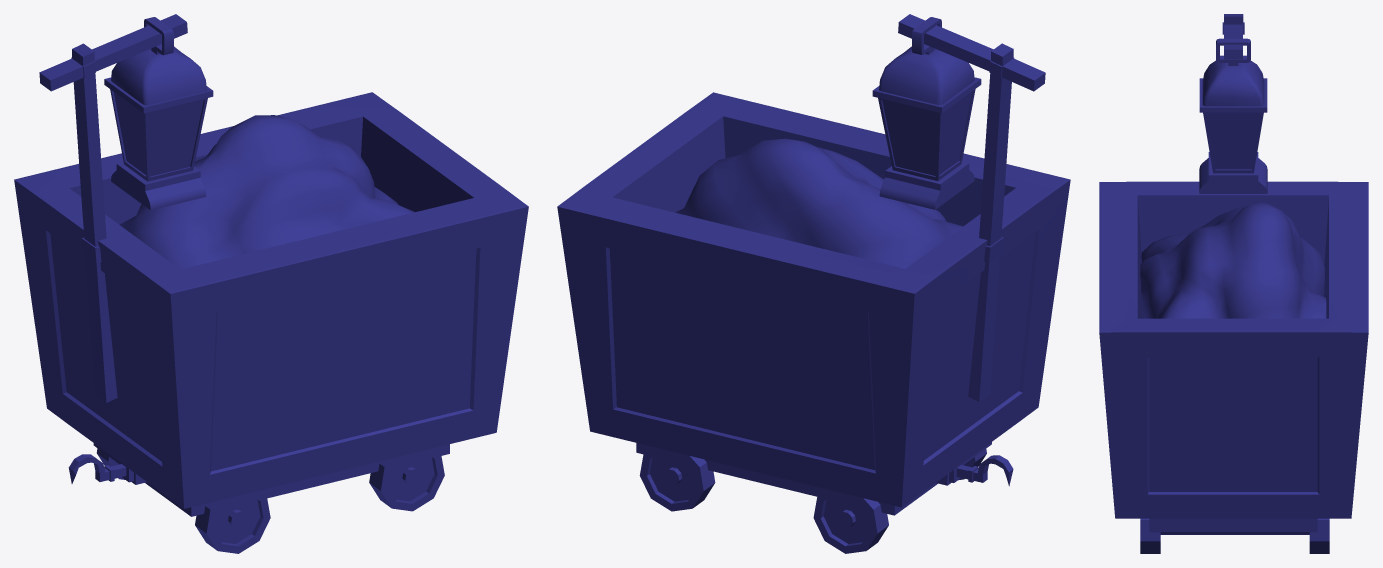
Rendered from MineCart.fbx.
3 renders of one model, left to right at view 1: azimuth 30°, elevation 25°; view 2: azimuth 150°, elevation 25°; view 3: azimuth 270°, elevation 25°, orthographic. The views are drawn at different scales.
Visible parts, largest first — view 1: cart; view 2: cart; view 3: cart.
Boxes of the visible parts, x1,y1,x2,y2 form: cart: [14, 14, 528, 553]; cart: [557, 14, 1070, 553]; cart: [1099, 14, 1368, 553].
Size of the model in its own units: 45.59 by 30.44 by 53.37.
